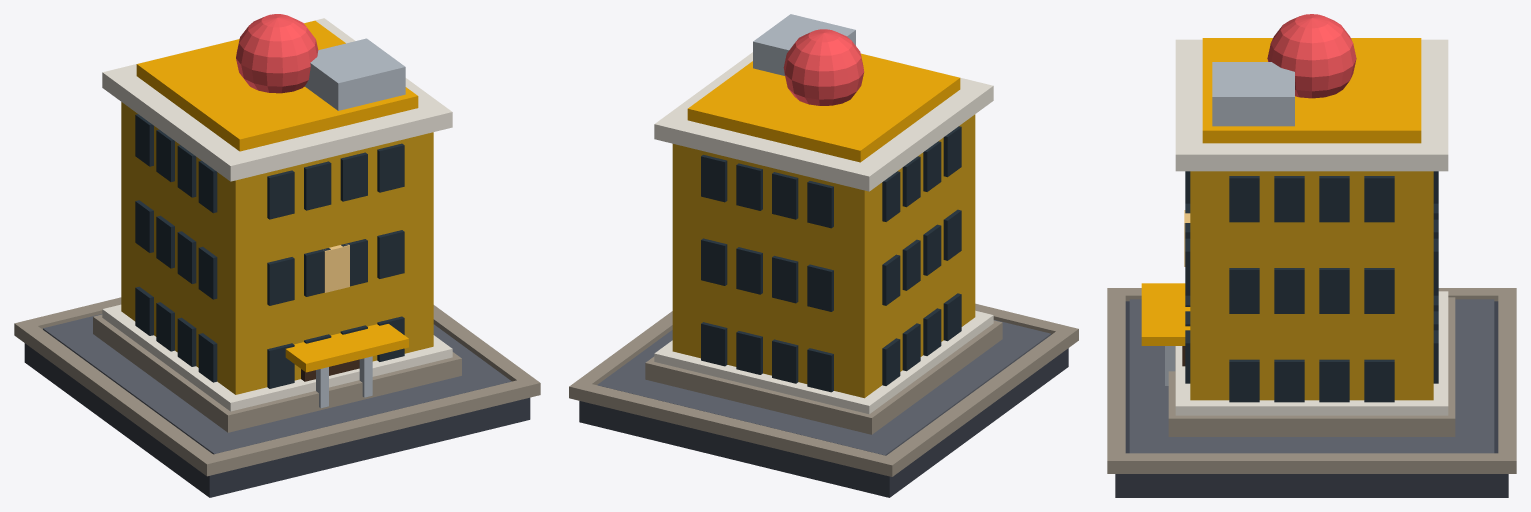
The model's file is city.hotel_luxe.glb.
The picture shows the model from 3 angles, left to right: view 1: azimuth 30°, elevation 25°; view 2: azimuth 150°, elevation 25°; view 3: azimuth 270°, elevation 25°; orthographic projection. The views are drawn at different scales.
Parts seen in each view (by area): view 1: city.hotel_luxe; view 2: city.hotel_luxe; view 3: city.hotel_luxe.
Boxes of the visible parts, x1=… form: city.hotel_luxe: x1=14, y1=14, x2=540, y2=497; city.hotel_luxe: x1=569, y1=14, x2=1078, y2=497; city.hotel_luxe: x1=1107, y1=14, x2=1516, y2=497.
Bounding box in the file's own units: 2.02 × 2.16 × 2.02.
